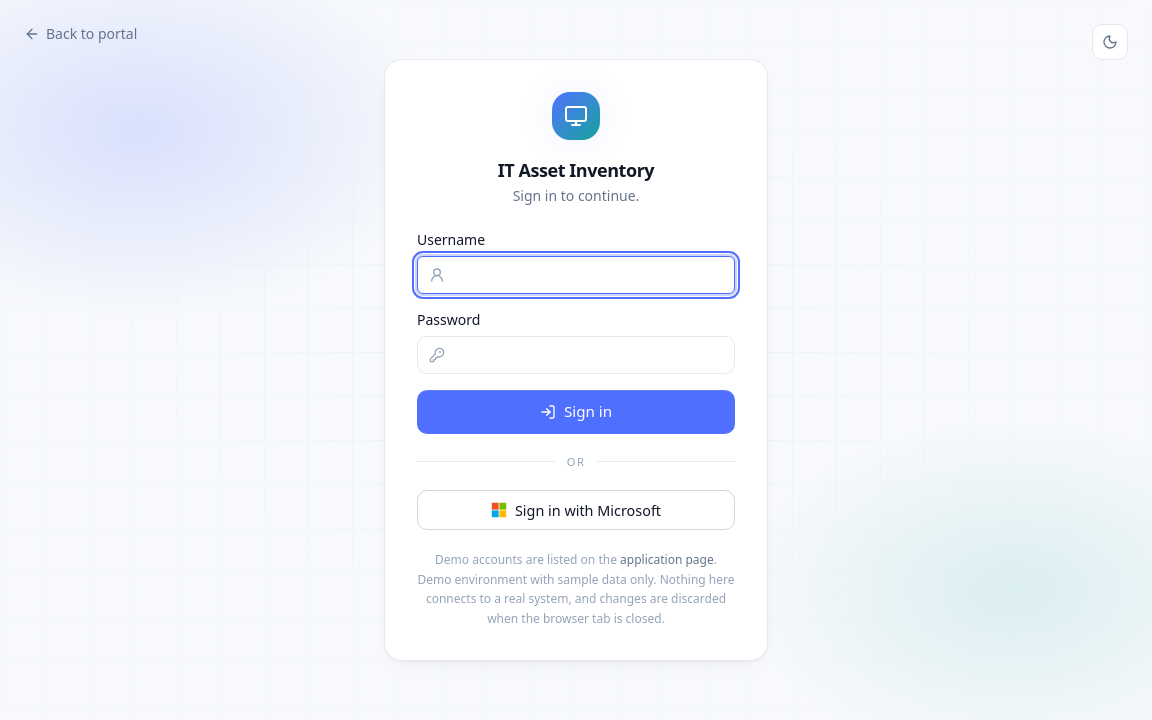
Test: Asset Management demo › shows a login page without a company logo and rejects bad credentials
The width and height of the screenshot is (1152, 720).
Expected: the heading "IT Asset Inventory" is shown, [498, 158, 654, 182]
In the field labelled "Username": (576, 275) [417, 256, 735, 294], type "admin"
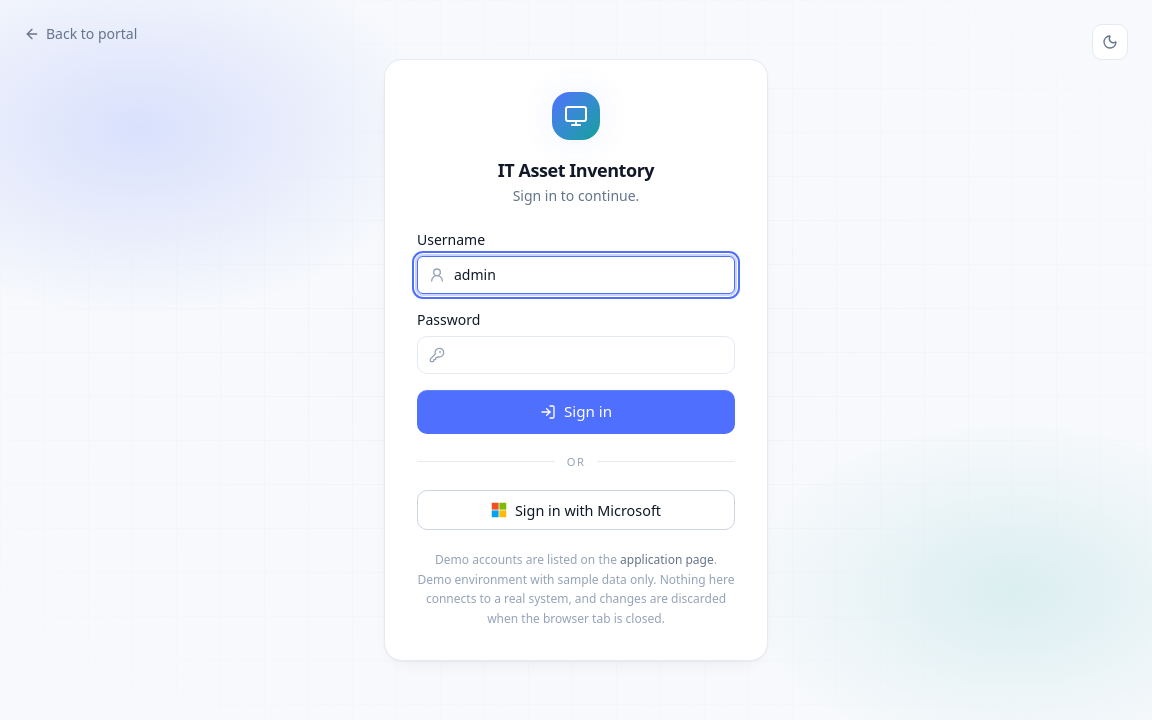
In the password field labelled "Password": (576, 355) [417, 336, 735, 374], type "nope"
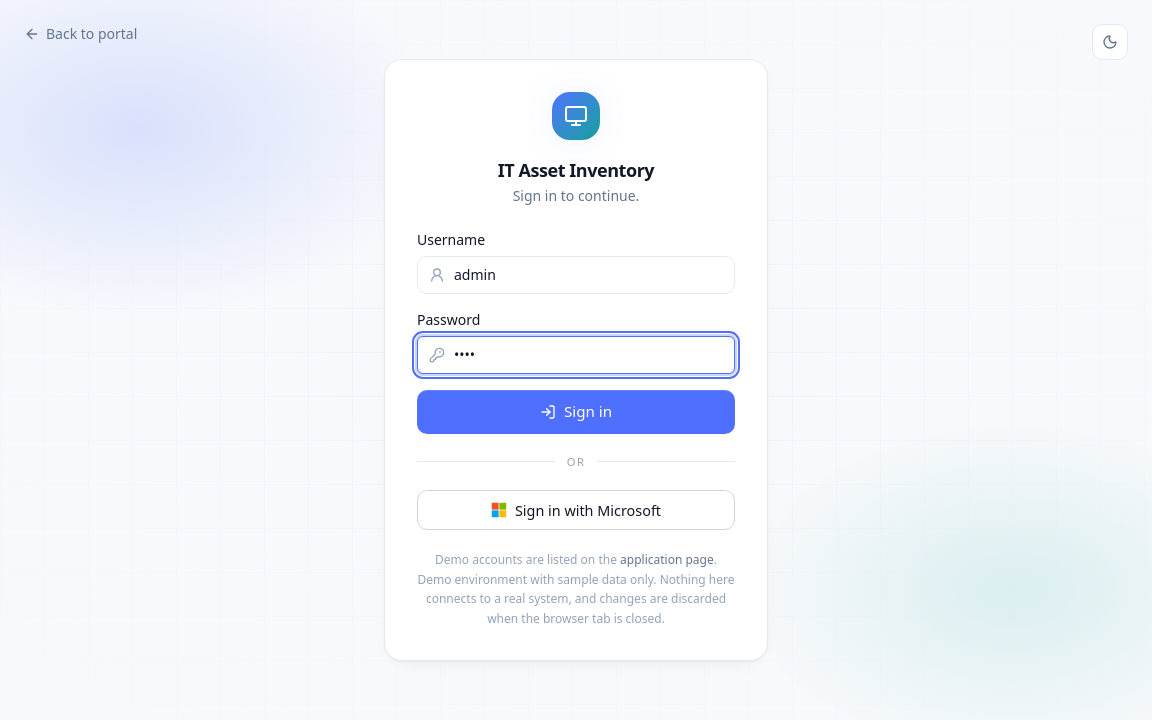
Click the button "Sign in": (576, 412) [417, 390, 735, 434]
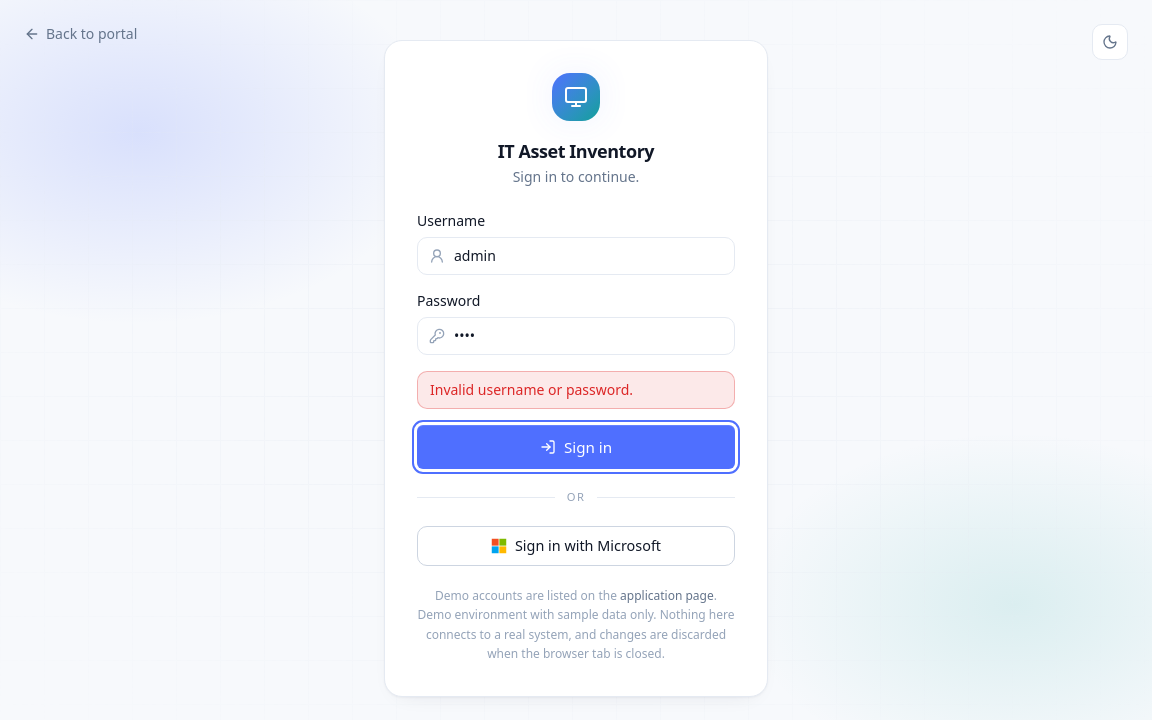
Now the message shows "Invalid username or password", box [430, 380, 633, 399]
